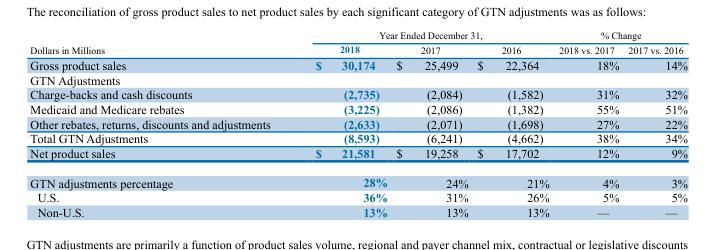table: (29, 29, 687, 218)
table column: (29, 29, 292, 218), (292, 29, 391, 218), (391, 29, 472, 218), (472, 29, 553, 218), (553, 29, 622, 218), (622, 29, 687, 218)
table column header: (29, 29, 687, 56)
table projected row header: (29, 72, 687, 86)
table row: (29, 145, 687, 167), (29, 167, 687, 189), (29, 56, 687, 72), (29, 41, 687, 56), (29, 86, 687, 101), (29, 101, 687, 116), (29, 130, 687, 145), (29, 189, 687, 204), (29, 72, 687, 86), (29, 116, 687, 130), (29, 204, 687, 218), (29, 29, 687, 41)
table spanning cell: (29, 29, 292, 56), (292, 29, 553, 41), (553, 29, 687, 41)
